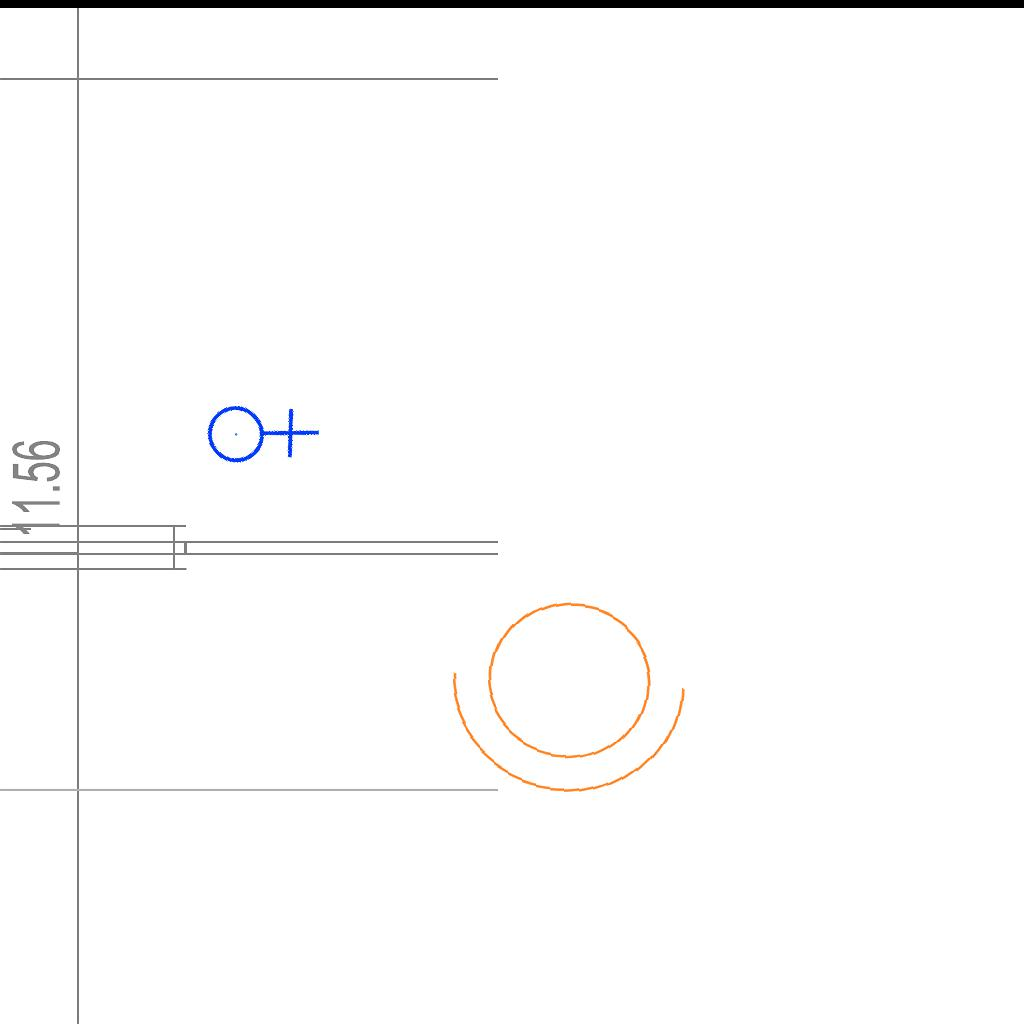Elektroanschluss_allgemein_230V_Geraeteanschlussdose_230V: (188, 361, 325, 499)
Scheinwerfer_fuer_Alarmbeleuchtung: (435, 569, 715, 812)
